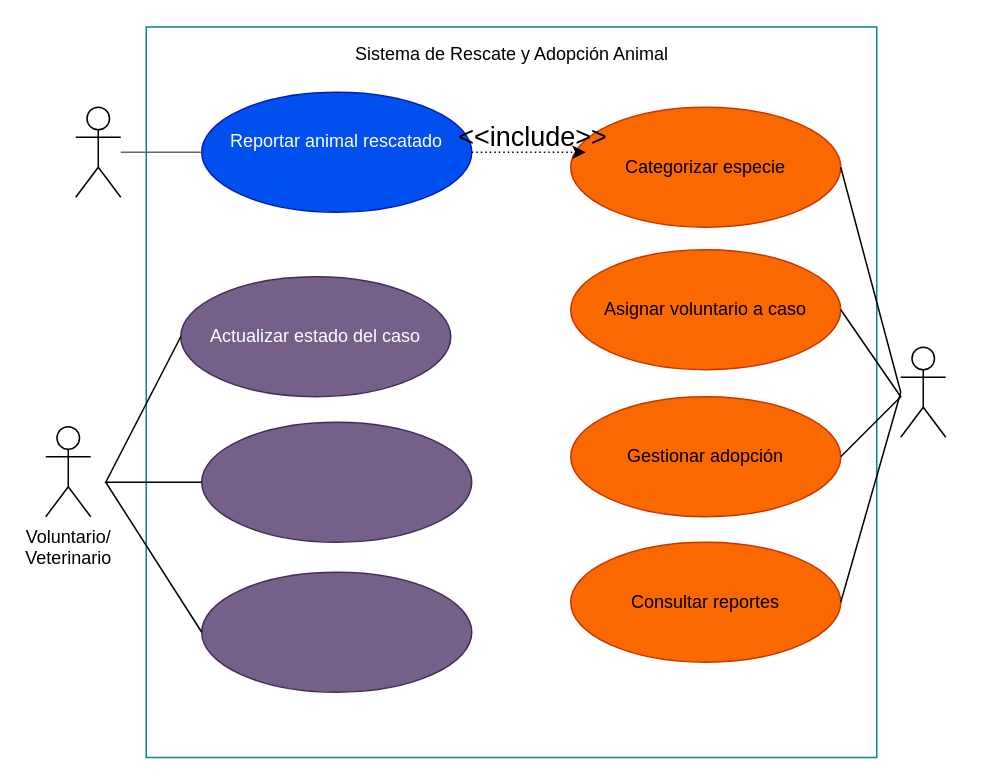
Some shapes in this 998 by 783 pixel diagram are drawn without their labels. Each missing label, with the centre of its shape:
Administrador del Refugio: point 922,391
Ciudadano: point 97,151
Recibir notificación del nuevo rescate: point 336,631
Registrar tratamiento: point 336,481
